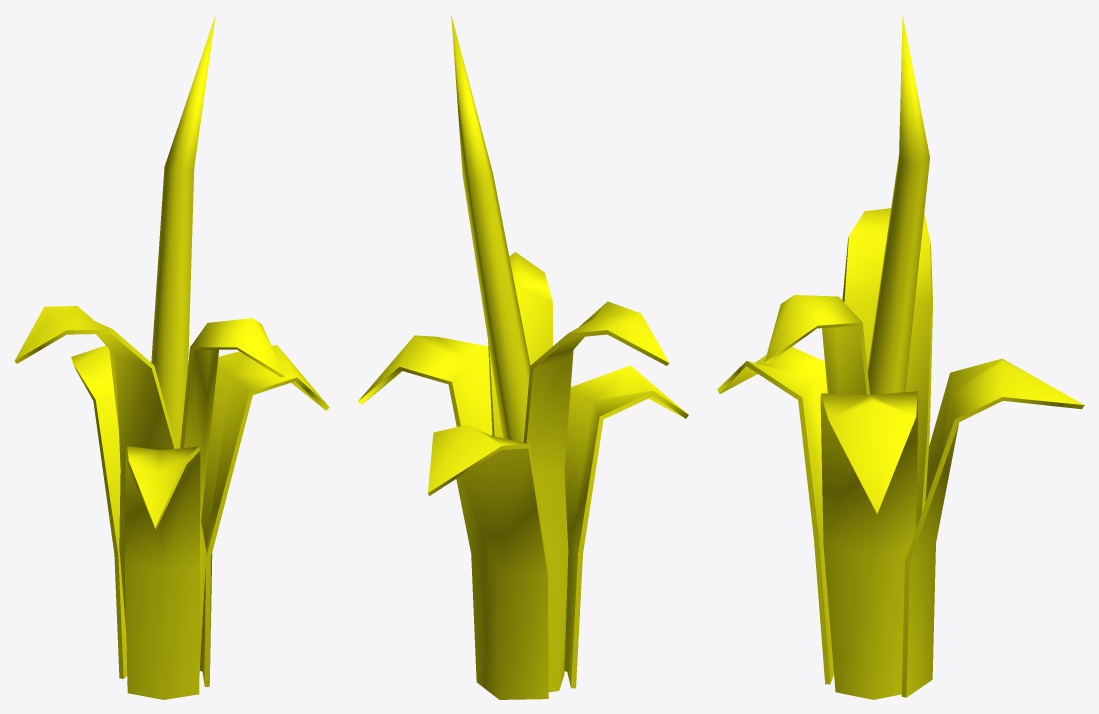
File: Cay ngo.gltf
3 renders of one model, left to right at view 1: azimuth 30°, elevation 25°; view 2: azimuth 150°, elevation 25°; view 3: azimuth 270°, elevation 25°, orthographic. The views are drawn at different scales.
Visible parts, largest first — view 1: Cay ngo; view 2: Cay ngo; view 3: Cay ngo.
Part boxes in pixels (x1,y1,x2,y2): Cay ngo: (14, 15, 329, 699); Cay ngo: (358, 15, 688, 699); Cay ngo: (717, 15, 1084, 699).
Size of the model in its own units: 0.8355 by 1.66 by 0.7913.
Materials: 1 (1 with a texture image).
